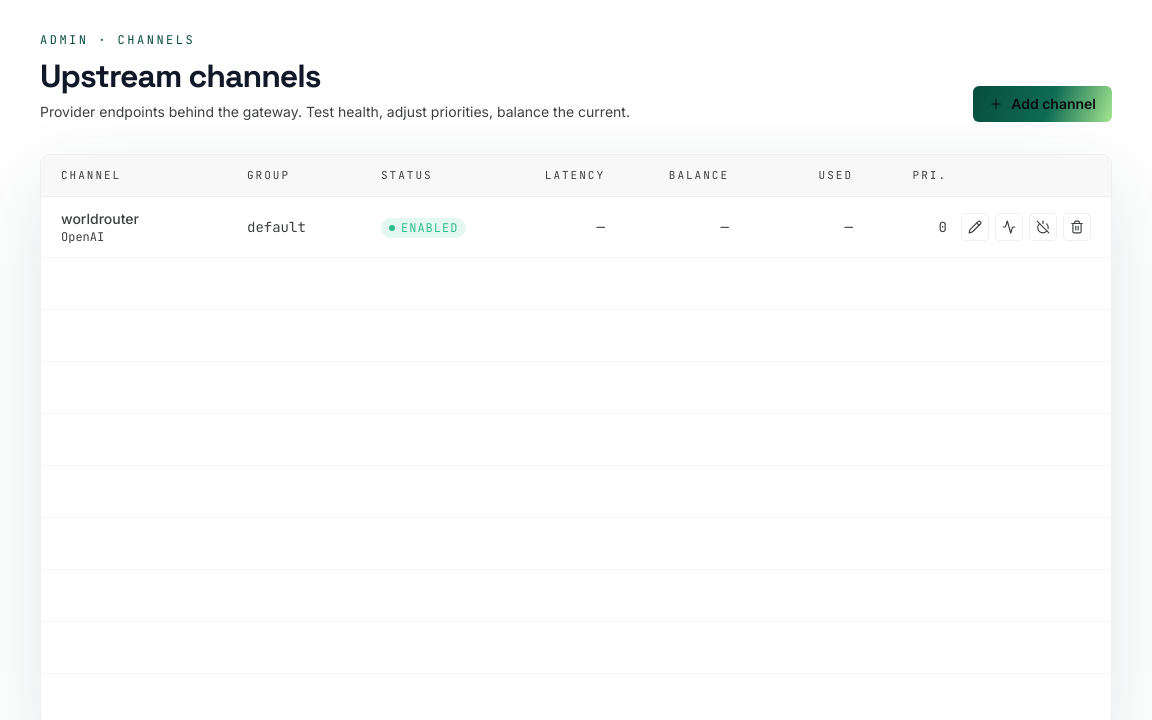
Test: /console/channels mutation errors › surfaces the API error when toggling a channel fails
Expected: the text "worldrouter" is shown, [61,210,139,226]
Click the button named "Disable" at (1043, 226), box [1029,212,1057,240]
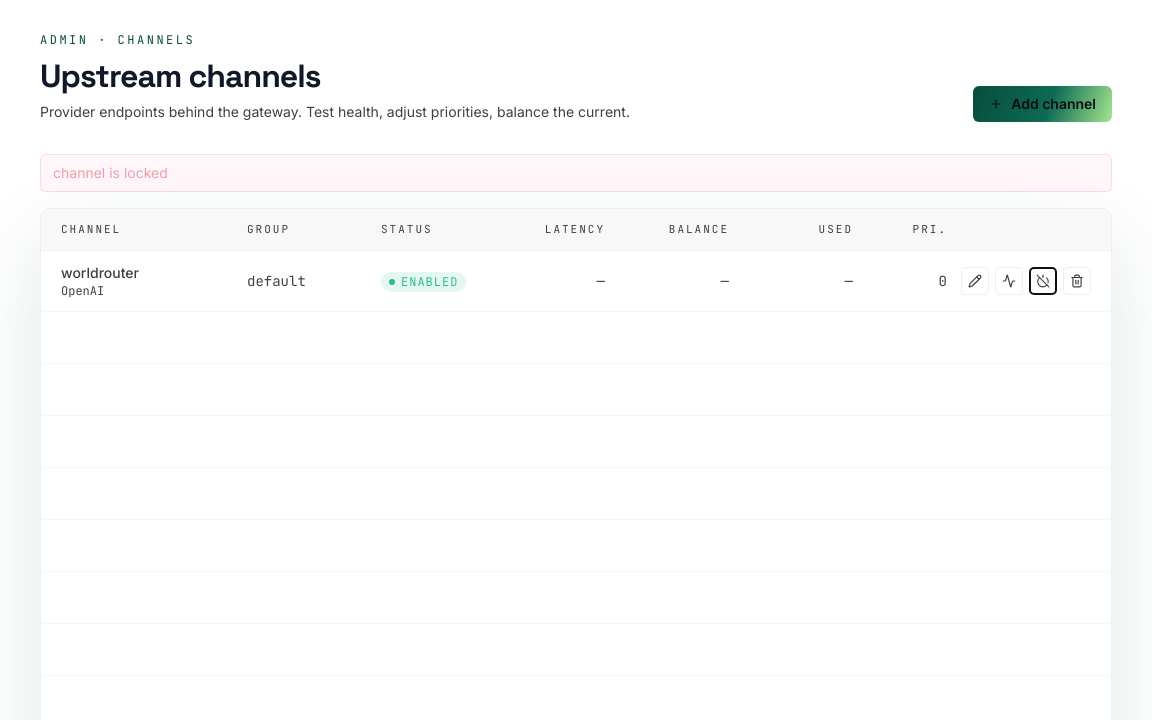
Expected: the text "channel is locked" is shown, [40,154,1112,192]
